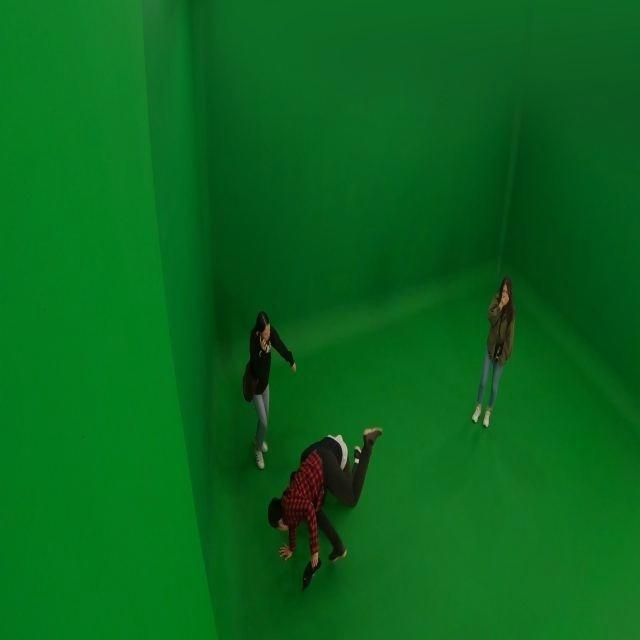fight: (269, 420, 384, 592)
non-fight: (238, 311, 298, 469), (472, 277, 517, 429)
